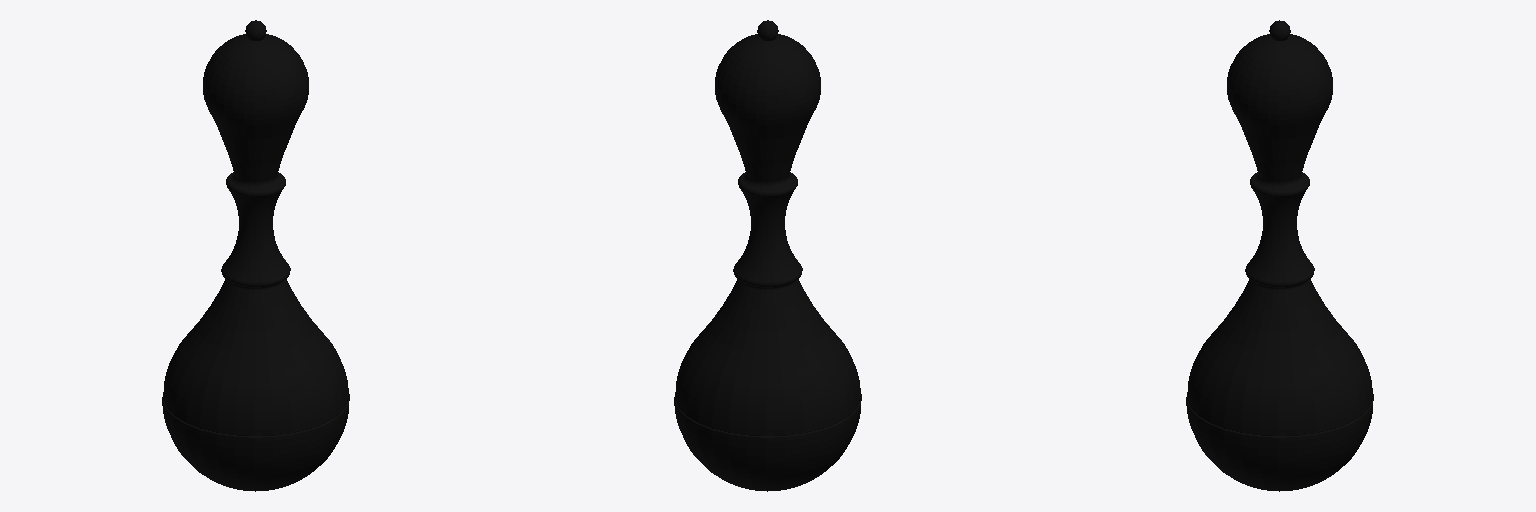
The robot description file, URDF, robot "queen_b":
<?xml version="1.0"?>
<robot name="queen_b">
  <link name="base_link">
    <visual>
      <origin xyz="0 0 0" rpy="0 0 0"/>
      <geometry>
        <mesh filename="./meshes/Queen.stl" scale="0.003 0.003 0.003"/>
      </geometry>
      <material name="piece_material">
        <color rgba="0.1 0.1 0.1 1.0"/>
      </material>
    </visual>
    <collision>
      <origin xyz="0 0 0.025" rpy="0 0 0"/>
      <geometry>
        <cylinder radius="0.012" length="0.05"/>
      </geometry>
    </collision>
    <inertial>
      <origin xyz="0 0 0.025" rpy="0 0 0"/>
      <mass value="0.04"/> <!-- 40 grams, or adjust -->
      <inertia
        ixx="0.00005" ixy="0.0" ixz="0.0"
        iyy="0.00005" iyz="0.0"
        izz="0.00001"/>
    </inertial>
  </link>
</robot>

--- What the picture shows (computed from the rendered views, not written in the file) ---
The picture shows the robot from 3 angles, left to right: view 1: azimuth 30°, elevation 25°; view 2: azimuth 150°, elevation 25°; view 3: azimuth 270°, elevation 25°; orthographic projection.
Robot: queen_b — 1 links, 0 joints (none); root link base_link; default pose: every joint at zero.
Visible links, largest first — view 1: base_link; view 2: base_link; view 3: base_link.
Link boxes in pixels (x1,y1,x2,y2): base_link: (162,20,349,491); base_link: (674,20,861,491); base_link: (1186,20,1373,491).
Size in the robot's own frame: 0.0524 by 0.0522 by 0.1419 metres.
1 mesh visuals loaded from 1 distinct referenced files (1 binary STL).